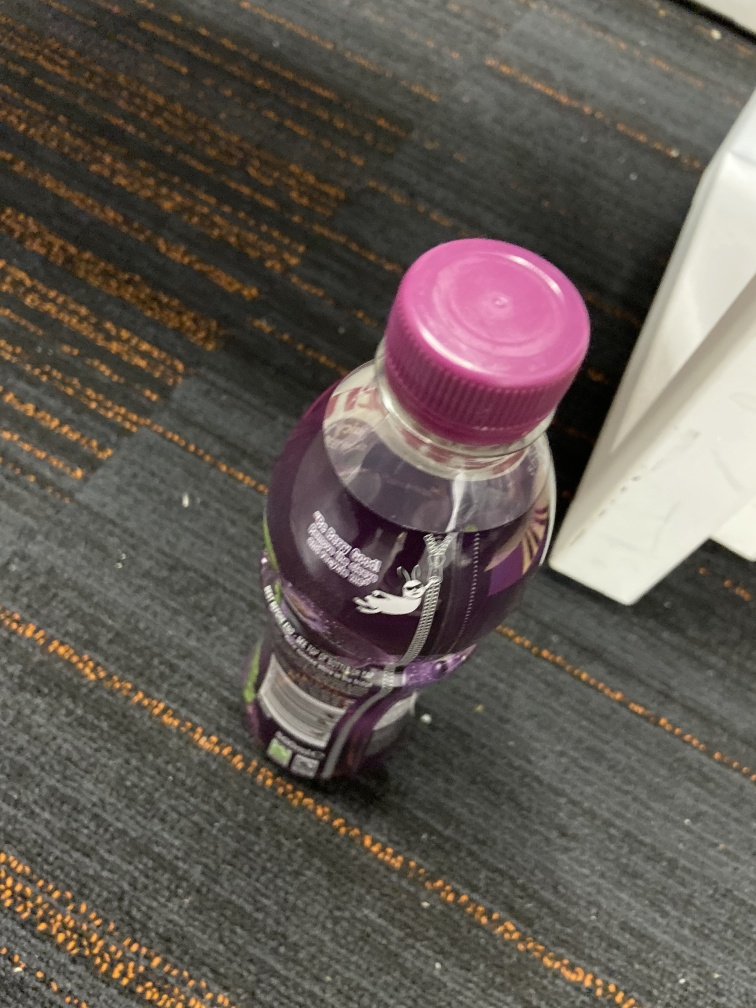bottle_purple: (243, 228, 599, 816)
